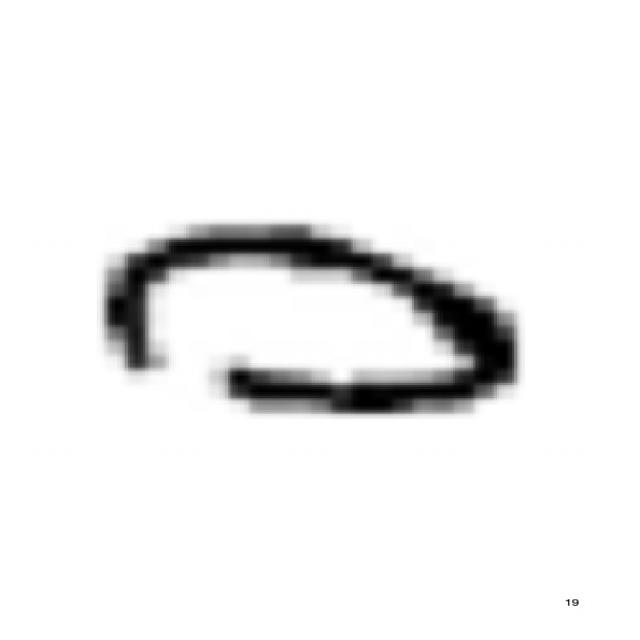5 -five-: (83, 213, 532, 423)
